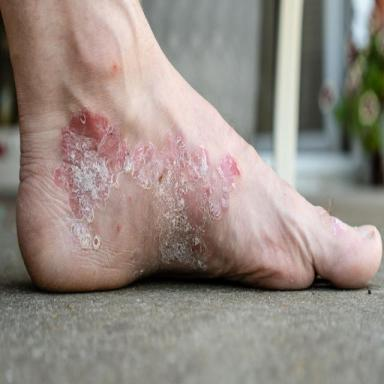Psoriasis: (54, 108, 241, 271)
